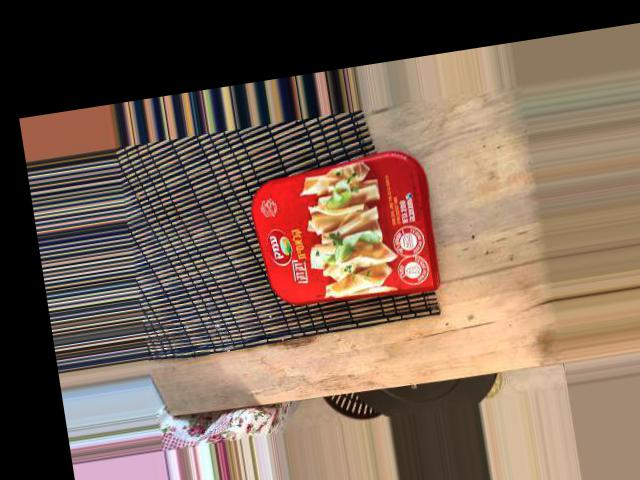cheese: (172, 107, 324, 314)
